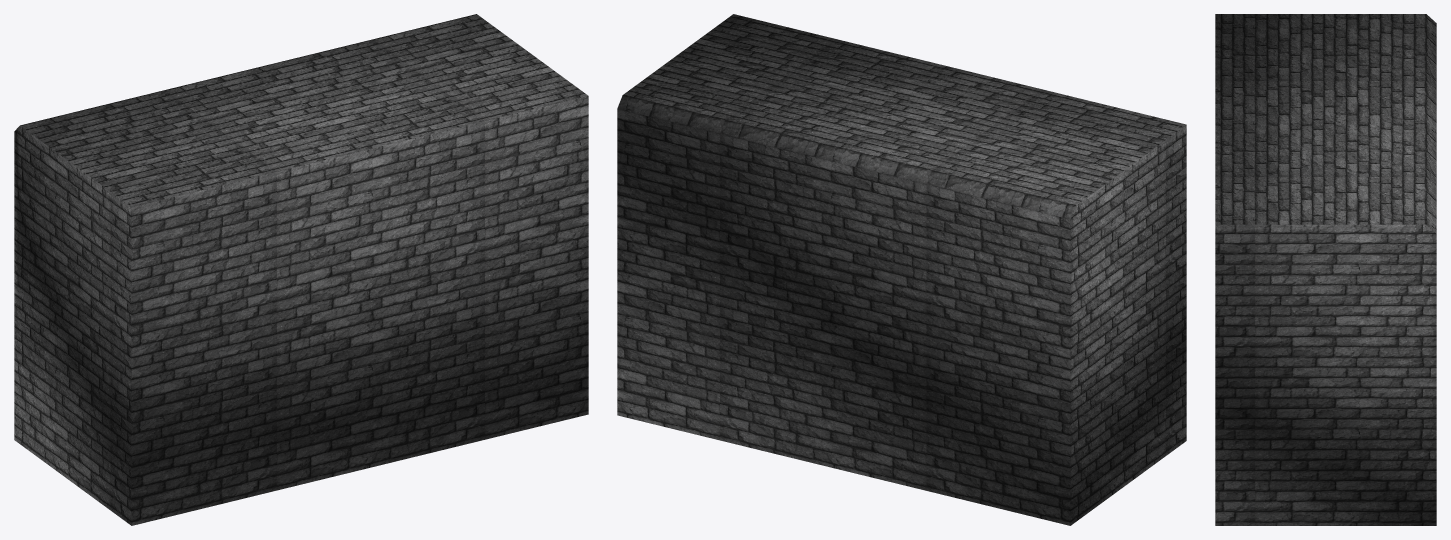
The model's file is stone big wall.glb.
The picture shows the model from 3 angles, left to right: view 1: azimuth 30°, elevation 25°; view 2: azimuth 150°, elevation 25°; view 3: azimuth 270°, elevation 25°; orthographic projection. The views are drawn at different scales.
Visible parts, largest first — view 1: Curtain Wall; view 2: Curtain Wall; view 3: Curtain Wall.
Boxes of the visible parts, x1,y1,x2,y2 form: Curtain Wall: (14,14,588,525); Curtain Wall: (617,14,1186,525); Curtain Wall: (1215,14,1436,525).
Bounding box in the file's own units: 8.23 × 5.49 × 3.66.
1 material, 1 textured.
